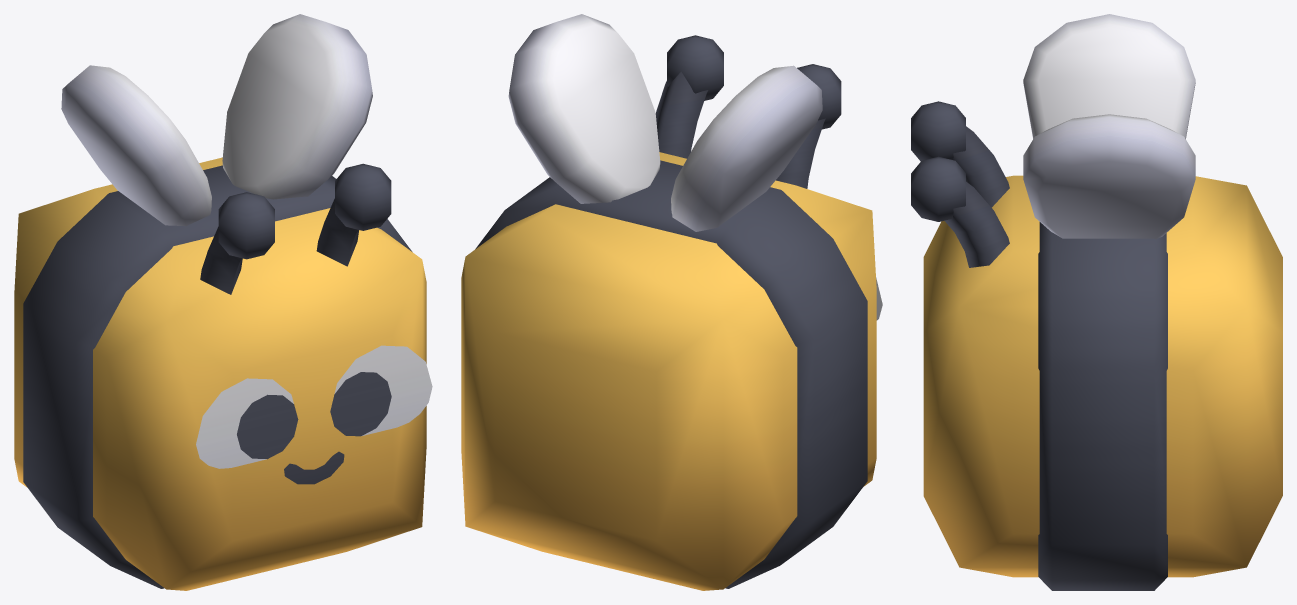
The model's file is cube_bee.glb.
3 renders of one model, left to right at view 1: azimuth 30°, elevation 25°; view 2: azimuth 150°, elevation 25°; view 3: azimuth 270°, elevation 25°, orthographic. The views are drawn at different scales.
Parts seen in each view (by area): view 1: body, wing-left, wing-right; view 2: body, wing-left, wing-right; view 3: body, wing-left, wing-right.
Part boxes in pixels (x1,y1,x2,y2): body: (14,157,432,590); wing-left: (222,14,372,199); wing-right: (61,65,211,226); body: (461,35,882,590); wing-left: (508,14,660,203); wing-right: (671,65,822,231); body: (911,101,1282,590); wing-left: (1023,114,1195,239); wing-right: (1023,14,1195,138).
Bounding box in the file's own units: 1.33 × 1.86 × 1.29.
1 material, 1 textured.
